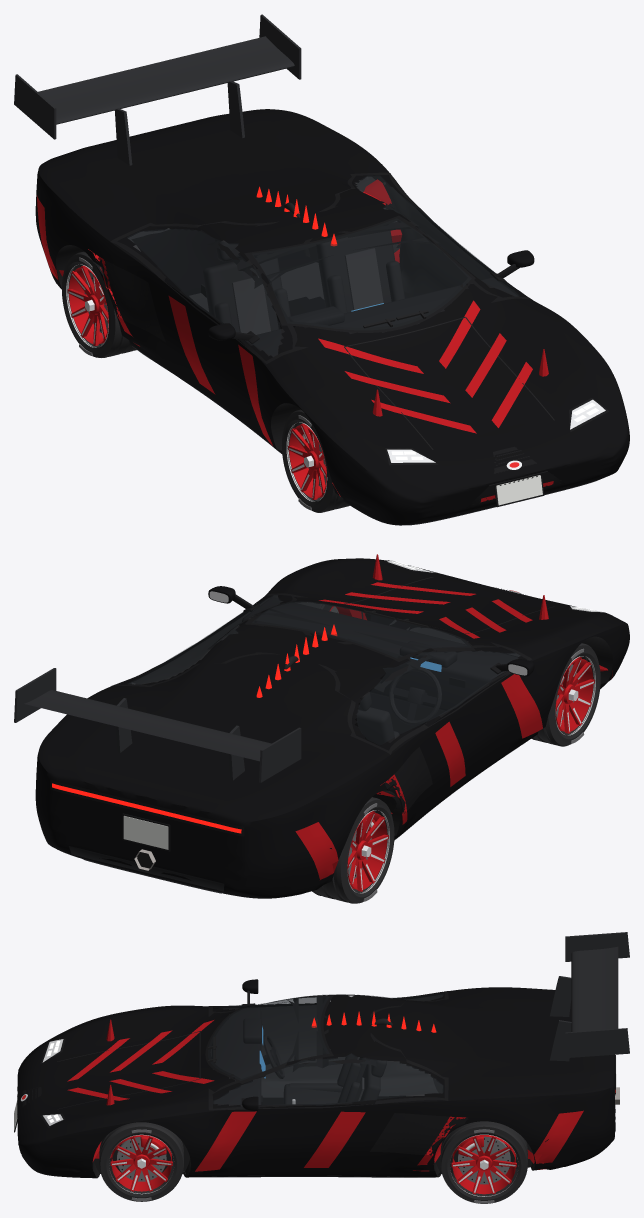
Rendered from oni.glb.
The picture shows the model from 3 angles, top to bottom: view 1: azimuth 30°, elevation 25°; view 2: azimuth 150°, elevation 25°; view 3: azimuth 270°, elevation 25°; orthographic projection. The views are drawn at different scales.
Parts seen in each view (by area): view 1: Body, Wheel_RR, Wheel_FR; view 2: Body, Wheel_RR, Wheel_FR; view 3: Body, Wheel_RL, Wheel_FL.
Part boxes in pixels (left/top/right/bottom): Body: left=14, top=14, right=629, bottom=525; Wheel_RR: left=62, top=251, right=136, bottom=357; Wheel_FR: left=281, top=409, right=349, bottom=512; Body: left=14, top=554, right=629, bottom=898; Wheel_RR: left=312, top=797, right=394, bottom=903; Wheel_FR: left=531, top=643, right=600, bottom=746; Body: left=14, top=932, right=629, bottom=1178; Wheel_RL: left=440, top=1121, right=527, bottom=1203; Wheel_FL: left=99, top=1122, right=183, bottom=1201.
Bounding box in the file's own units: 2.39 × 1.5 × 4.95.
